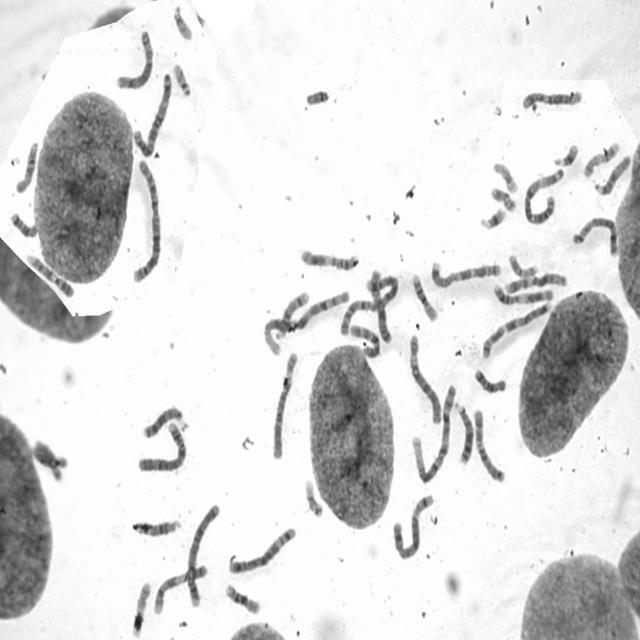A1: (260, 284, 352, 354), (410, 379, 458, 485)
A2: (128, 154, 164, 285), (337, 268, 400, 337)
A3: (130, 67, 174, 159), (520, 162, 566, 226)
B4: (183, 498, 222, 608), (134, 416, 189, 474)
B5: (225, 522, 298, 576), (389, 488, 436, 562)
C10: (471, 404, 507, 485), (347, 319, 382, 359)
C11: (489, 279, 555, 306), (297, 244, 360, 272)
C12: (501, 267, 568, 295), (518, 84, 584, 110)
C6: (268, 346, 300, 461), (406, 330, 444, 426)
C7: (478, 296, 554, 361), (427, 256, 503, 288)
C8: (113, 24, 155, 91), (570, 212, 620, 258)
C9: (150, 559, 209, 616), (23, 248, 76, 299)
D13: (139, 400, 187, 440), (452, 398, 475, 466)
D14: (273, 286, 311, 342), (129, 513, 182, 538)
D15: (592, 150, 632, 197), (12, 136, 40, 194)
E16: (408, 268, 439, 323), (222, 578, 262, 616)
E17: (580, 136, 622, 180), (128, 577, 152, 638)
E18: (471, 364, 508, 395), (7, 207, 39, 239)
F19: (490, 157, 520, 195), (301, 474, 325, 518)
F20: (487, 181, 518, 213), (510, 250, 541, 280)
G21: (550, 138, 581, 168), (477, 202, 507, 230)
G22: (170, 1, 194, 42), (170, 58, 192, 98)
X: (364, 266, 394, 346)
Y: (302, 83, 330, 107)
